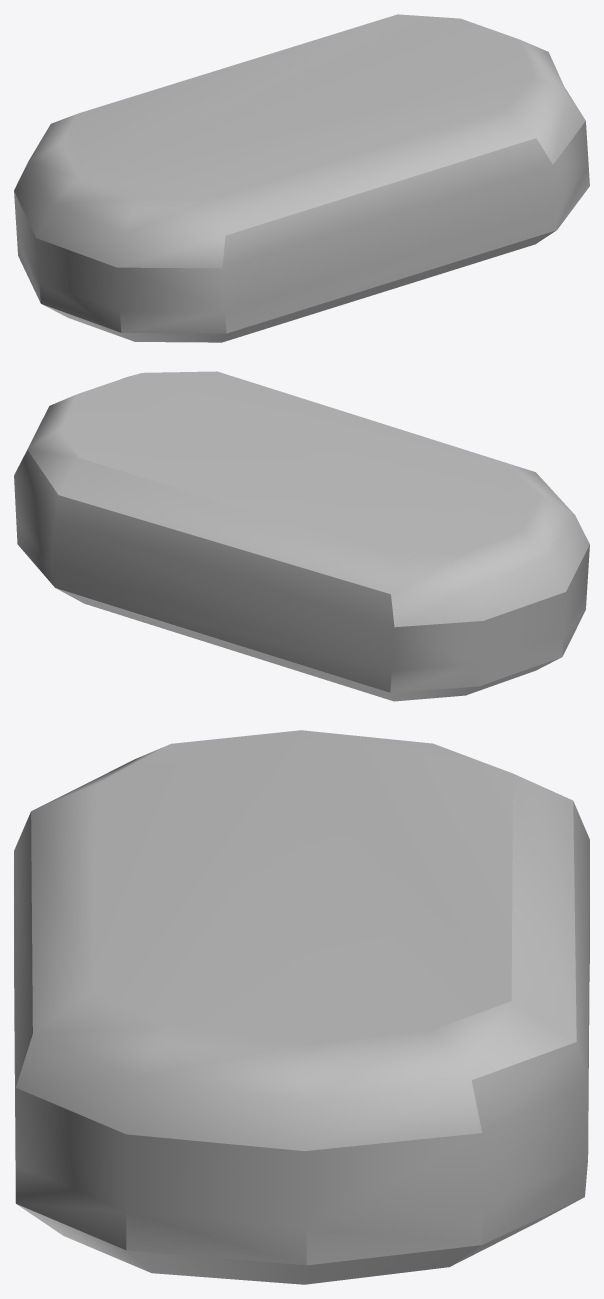
Rendered from blank1_button.glb.
3 views of the same model, one above another, from view 1: azimuth 30°, elevation 25°; view 2: azimuth 150°, elevation 25°; view 3: azimuth 270°, elevation 25° (orthographic). The views are drawn at different scales.
Parts seen in each view (by area): view 1: blank1_button; view 2: blank1_button; view 3: blank1_button.
Boxes of the visible parts, <box> form: blank1_button: <box>14,14,589,342</box>; blank1_button: <box>14,371,589,701</box>; blank1_button: <box>14,730,589,1284</box>.
Bounding box in the file's own units: 0.00277 × 0.000842 × 0.00156.
Materials: 1 (1 with a texture image).
